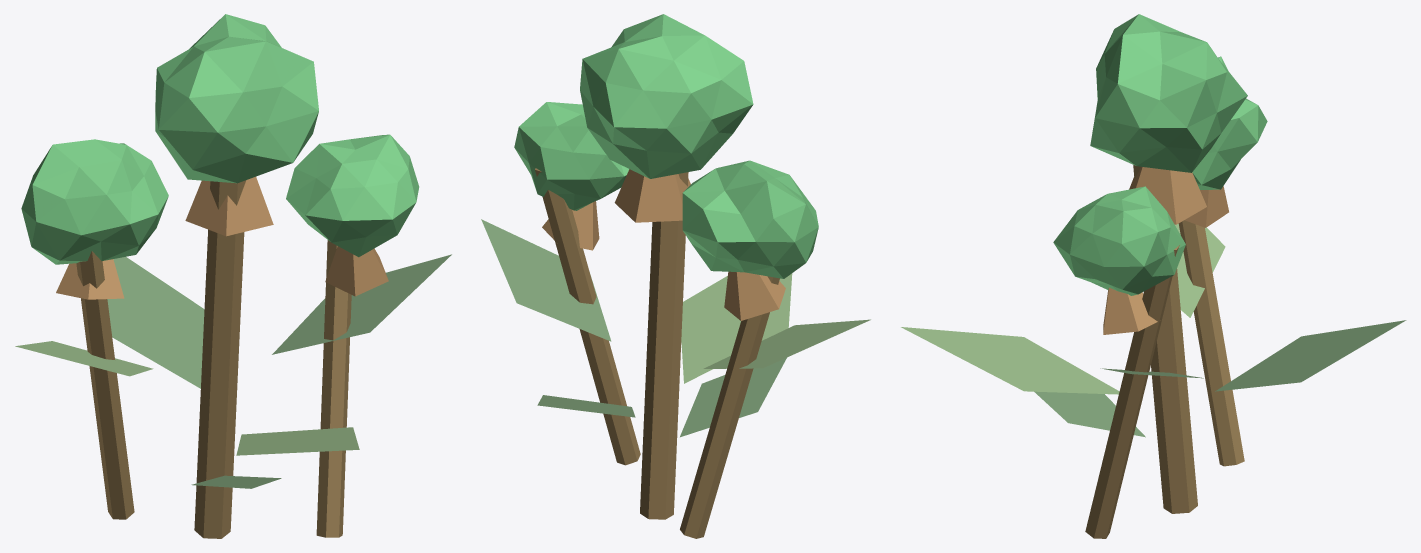
Rendered from t3_fiber_full.glb.
The picture shows the model from 3 angles, left to right: view 1: azimuth 30°, elevation 25°; view 2: azimuth 150°, elevation 25°; view 3: azimuth 270°, elevation 25°; orthographic projection. The views are drawn at different scales.
Parts seen in each view (by area): view 1: CenterCottonBoll, LeftCottonBoll, CenterStem, RightCottonBoll, BackLeaf, LeftStem, RightStem, RightLeaf, CenterHusk, FrontLeaf, RightHusk, LeftLeaf (+2 smaller); view 2: CenterCottonBoll, LeftCottonBoll, CenterStem, RightCottonBoll, RightStem, LeftStem, RightLeaf, FrontLeaf, CenterHusk, LowLeaf, LeftLeaf, LeftHusk (+2 smaller); view 3: CenterCottonBoll, RightCottonBoll, CenterStem, FrontLeaf, RightStem, LeftStem, BackLeaf, LeftCottonBoll, CenterHusk, LowLeaf, RightHusk, LeftLeaf (+1 smaller).
Part boxes in pixels (x1=…): CenterCottonBoll: x1=155, y1=14, x2=318, y2=183; LeftCottonBoll: x1=21, y1=139, x2=168, y2=264; CenterStem: x1=194, y1=180, x2=245, y2=538; RightCottonBoll: x1=286, y1=134, x2=419, y2=257; BackLeaf: x1=107, y1=257, x2=204, y2=388; LeftStem: x1=76, y1=251, x2=134, y2=519; RightStem: x1=316, y1=240, x2=351, y2=537; RightLeaf: x1=272, y1=254, x2=451, y2=354; CenterHusk: x1=185, y1=176, x2=273, y2=236; FrontLeaf: x1=236, y1=427, x2=359, y2=455; RightHusk: x1=325, y1=246, x2=388, y2=296; LeftLeaf: x1=15, y1=341, x2=153, y2=376; CenterCottonBoll: x1=580, y1=14, x2=753, y2=178; LeftCottonBoll: x1=682, y1=160, x2=818, y2=278; CenterStem: x1=640, y1=172, x2=688, y2=519; RightCottonBoll: x1=514, y1=102, x2=629, y2=210; RightStem: x1=535, y1=168, x2=640, y2=465; LeftStem: x1=680, y1=276, x2=779, y2=538; RightLeaf: x1=481, y1=219, x2=611, y2=341; FrontLeaf: x1=681, y1=273, x2=792, y2=383; CenterHusk: x1=614, y1=169, x2=690, y2=222; LowLeaf: x1=680, y1=357, x2=786, y2=437; LeftLeaf: x1=703, y1=319, x2=870, y2=368; LeftHusk: x1=724, y1=271, x2=785, y2=320; CenterCottonBoll: x1=1090, y1=14, x2=1247, y2=172; RightCottonBoll: x1=1053, y1=186, x2=1185, y2=295; CenterStem: x1=1133, y1=165, x2=1197, y2=513; FrontLeaf: x1=901, y1=327, x2=1119, y2=394; RightStem: x1=1085, y1=245, x2=1179, y2=538; LeftStem: x1=1178, y1=220, x2=1244, y2=466; BackLeaf: x1=1215, y1=320, x2=1406, y2=391; LeftCottonBoll: x1=1192, y1=56, x2=1267, y2=189; CenterHusk: x1=1129, y1=167, x2=1206, y2=224; LowLeaf: x1=1034, y1=391, x2=1145, y2=437; RightHusk: x1=1103, y1=287, x2=1157, y2=334; LeftLeaf: x1=1175, y1=223, x2=1225, y2=317.
Size of the model in its own units: 0.9519 by 1.08 by 1.02.
